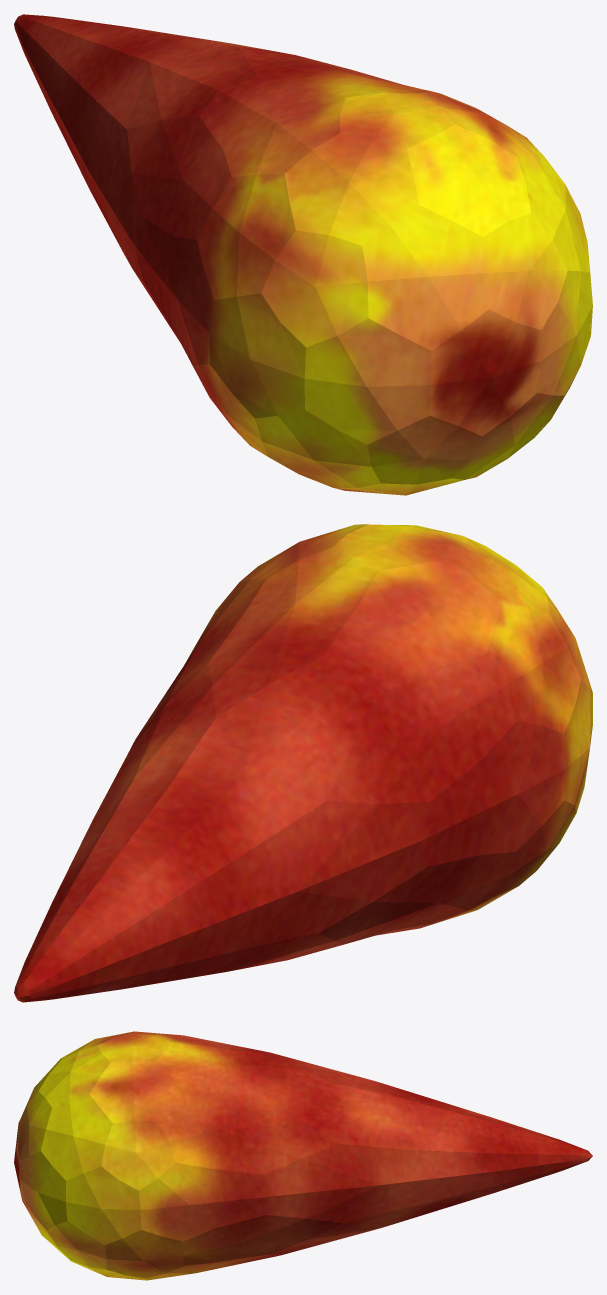
Rendered from art_eye.obj.
The picture shows the model from 3 angles, top to bottom: view 1: azimuth 30°, elevation 25°; view 2: azimuth 150°, elevation 25°; view 3: azimuth 270°, elevation 25°; orthographic projection. The views are drawn at different scales.
Visible parts, largest first — view 1: art_eye_Icosphere; view 2: art_eye_Icosphere; view 3: art_eye_Icosphere.
Boxes of the visible parts, bbox=[...] form: art_eye_Icosphere: bbox=[14, 14, 592, 495]; art_eye_Icosphere: bbox=[14, 524, 592, 1002]; art_eye_Icosphere: bbox=[14, 1031, 592, 1280].
Size of the model in its own units: 1.85 by 1.78 by 4.25.
